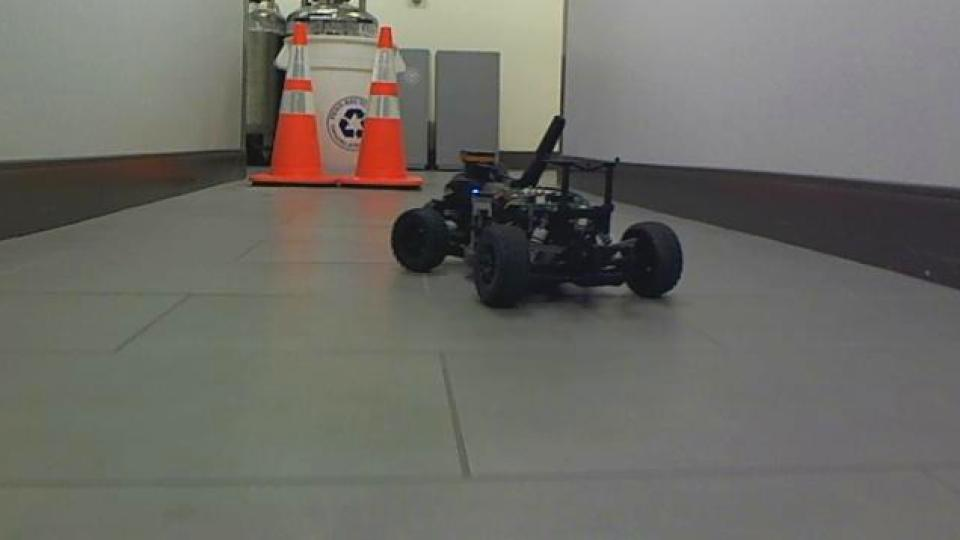car: (386, 113, 686, 311)
